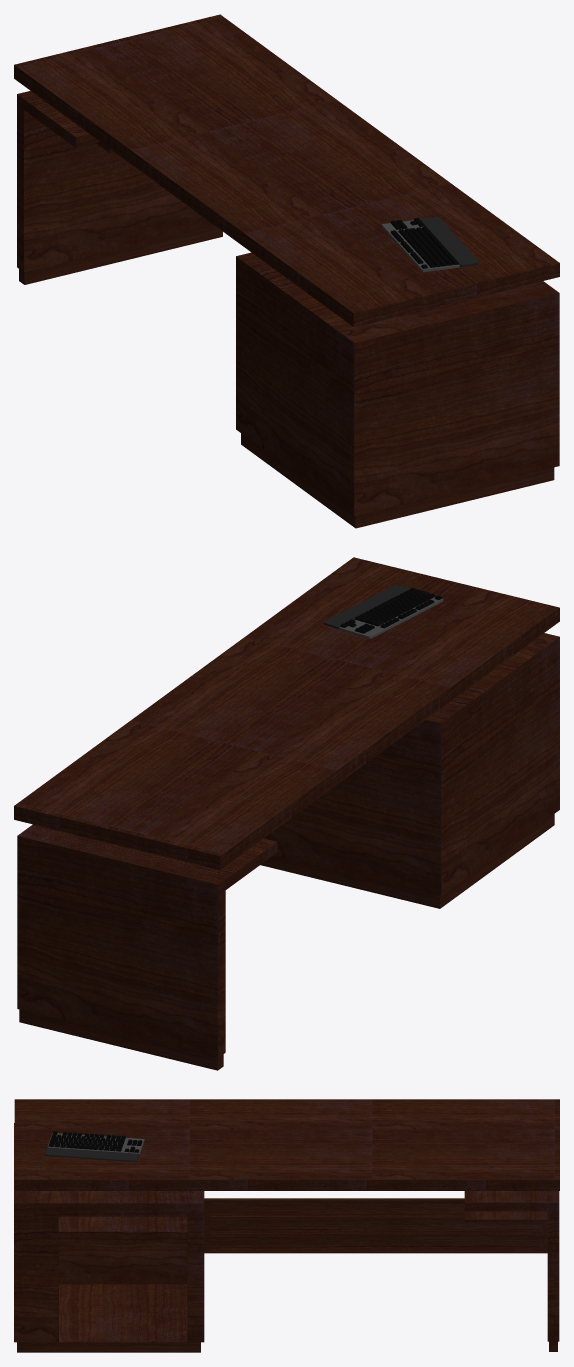
The model's file is Desk.glb.
3 views of the same model, one above another, from view 1: azimuth 30°, elevation 25°; view 2: azimuth 150°, elevation 25°; view 3: azimuth 270°, elevation 25° (orthographic). The views are drawn at different scales.
Parts seen in each view (by area): view 1: Box007, Box002, Box004, Box001, Box003, Cube.023, Cube.016; view 2: Box007, Box004, Box002, Box001, Box003, Cube.023, Cube.016; view 3: Box007, Box002, Semi_Transparent, Box008, Box004, Box001, Cube.023, Cube.016.
Part boxes in pixels (<box>): Box007: <box>14,14,559,326</box>; Box002: <box>236,252,559,515</box>; Box004: <box>17,91,214,272</box>; Box001: <box>241,433,554,528</box>; Box003: <box>19,226,222,284</box>; Cube.023: <box>420,216,479,266</box>; Cube.016: <box>381,220,459,271</box>; Box007: <box>14,557,559,869</box>; Box004: <box>17,824,277,1057</box>; Box002: <box>264,633,559,896</box>; Box001: <box>260,814,554,908</box>; Box003: <box>19,1009,223,1070</box>; Cube.023: <box>323,584,409,628</box>; Cube.016: <box>339,597,443,638</box>; Box007: <box>14,1099,559,1190</box>; Box002: <box>14,1123,204,1342</box>; Semi_Transparent: <box>210,1203,540,1249</box>; Box008: <box>204,1198,547,1253</box>; Box004: <box>464,1191,559,1341</box>; Box001: <box>17,1342,200,1352</box>; Cube.023: <box>45,1147,139,1162</box>; Cube.016: <box>47,1133,144,1154</box>.
Bounding box in the file's own units: 0.7918 × 0.819 × 2.26.
Materials: 6 (2 with a texture image).
